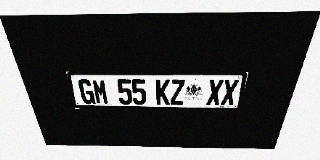5: (131, 79, 147, 105), (117, 79, 133, 104)
G: (77, 79, 96, 104)
K: (156, 79, 170, 105)
M: (91, 79, 109, 104)
X: (220, 79, 239, 105), (206, 79, 224, 105)
Z: (170, 79, 185, 105)
